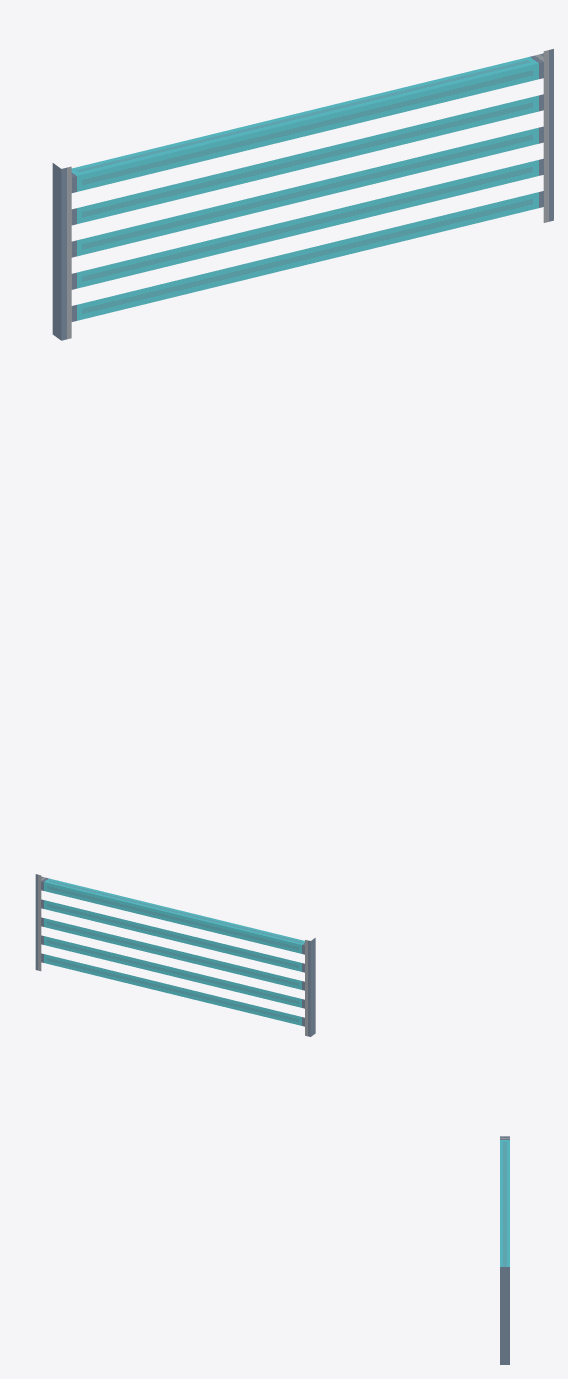
Rendered from NewWallBig.gltf.
The picture shows the model from 3 angles, top to bottom: view 1: azimuth 30°, elevation 25°; view 2: azimuth 150°, elevation 25°; view 3: azimuth 270°, elevation 25°; orthographic projection. The views are drawn at different scales.
Bounding box in the file's own units: 6 × 5 × 10.
Materials: 1 (1 with a texture image).
